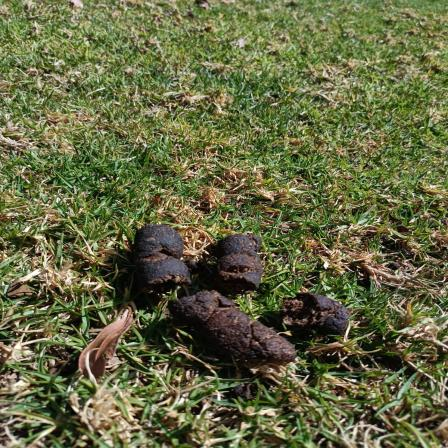dog-poop: (123, 215, 364, 370)
